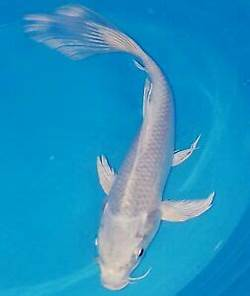white: (23, 3, 216, 291)
